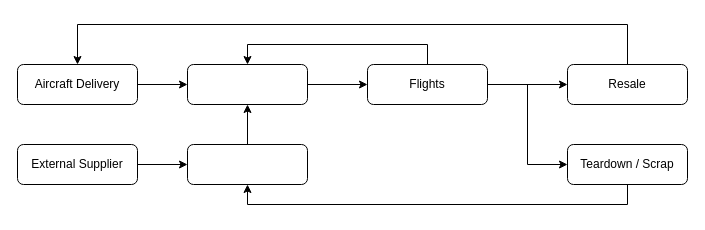
Image size: 705x230. Some labels were removed from this diagram. The shapes that lost their labels are listed below. From the top down, each one's centre as x and y in pixels, then its label:
At point (247, 84): "Maintenance (MRO)".
At point (247, 164): "Parts".
